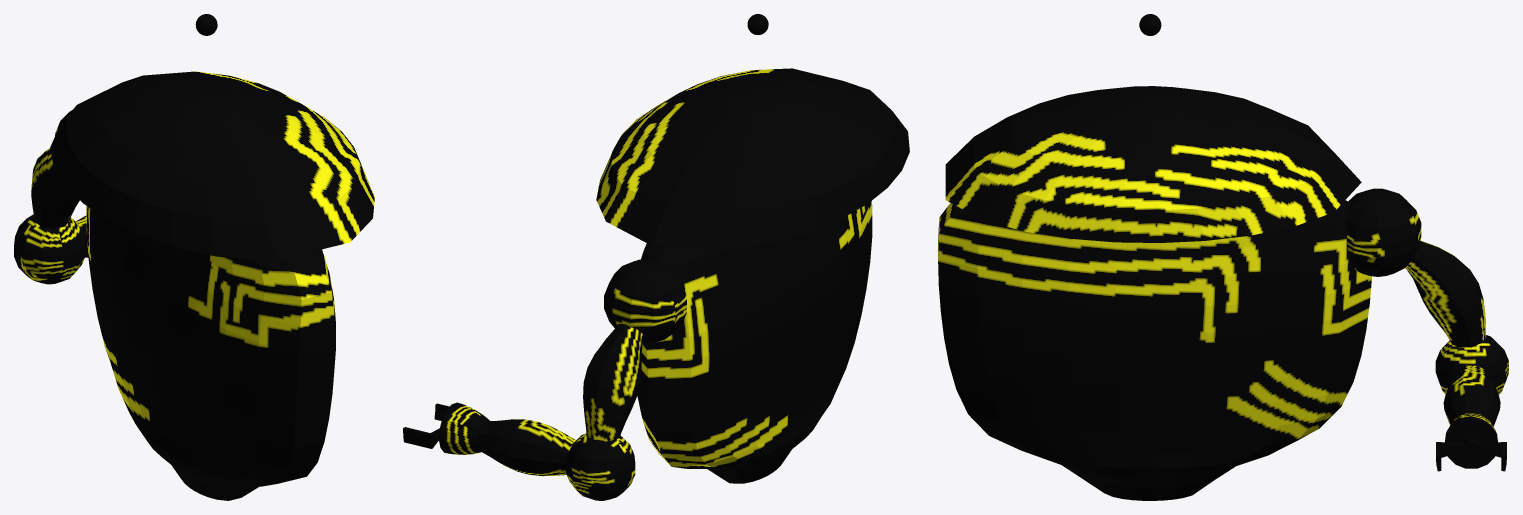
The model's file is Anthrobot_move.fbx.
The picture shows the model from 3 angles, left to right: view 1: azimuth 30°, elevation 25°; view 2: azimuth 150°, elevation 25°; view 3: azimuth 270°, elevation 25°; orthographic projection. The views are drawn at different scales.
Parts seen in each view (by area): view 1: anthrobotUVs:headusOBJexport; view 2: anthrobotUVs:headusOBJexport; view 3: anthrobotUVs:headusOBJexport.
Boxes of the visible parts, x1,y1,x2,y2 form: anthrobotUVs:headusOBJexport: [14, 14, 374, 500]; anthrobotUVs:headusOBJexport: [403, 14, 909, 500]; anthrobotUVs:headusOBJexport: [938, 14, 1508, 500].
Bounding box in the file's own units: 2.43 × 3.6 × 3.87.
